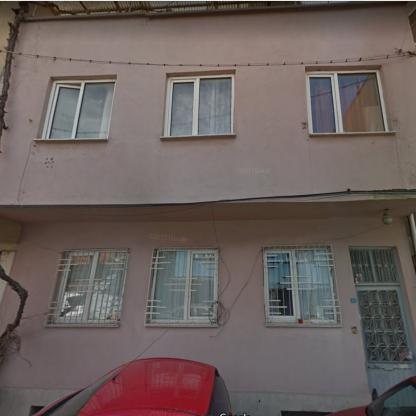door: (356, 286, 414, 396)
window: (52, 248, 127, 325), (264, 250, 336, 325), (306, 70, 388, 134), (148, 250, 216, 324), (163, 73, 234, 135), (41, 80, 115, 139), (350, 250, 398, 283)
